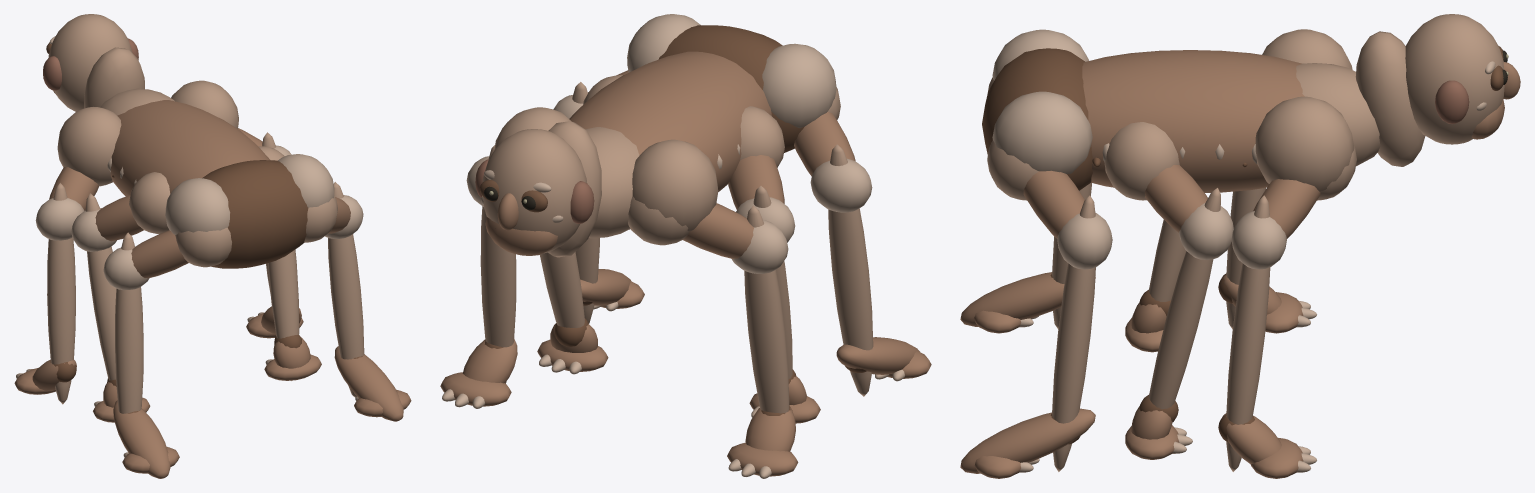
The picture shows the model from 3 angles, left to right: view 1: azimuth 30°, elevation 25°; view 2: azimuth 150°, elevation 25°; view 3: azimuth 270°, elevation 25°; orthographic projection. The views are drawn at different scales.
Bounding box in the file's own units: 1.54 × 1.54 × 2.04.
